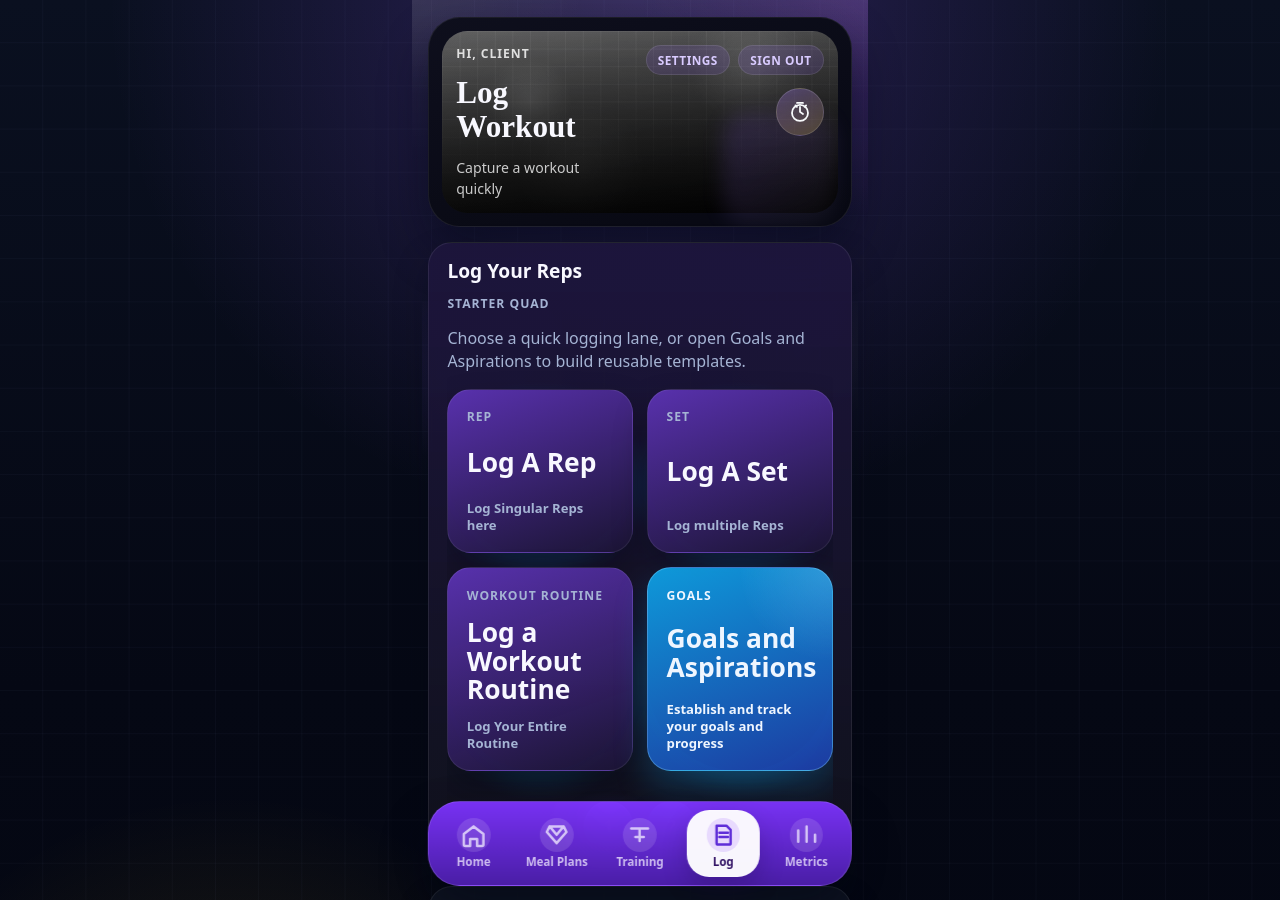
Scenario: AddLogPage mobile experience › replaces the old modal mode pills with Log and Recent History tabs
Click the button named "Open Log A Rep form" at x=540, y=471, box [447,389,633,553]
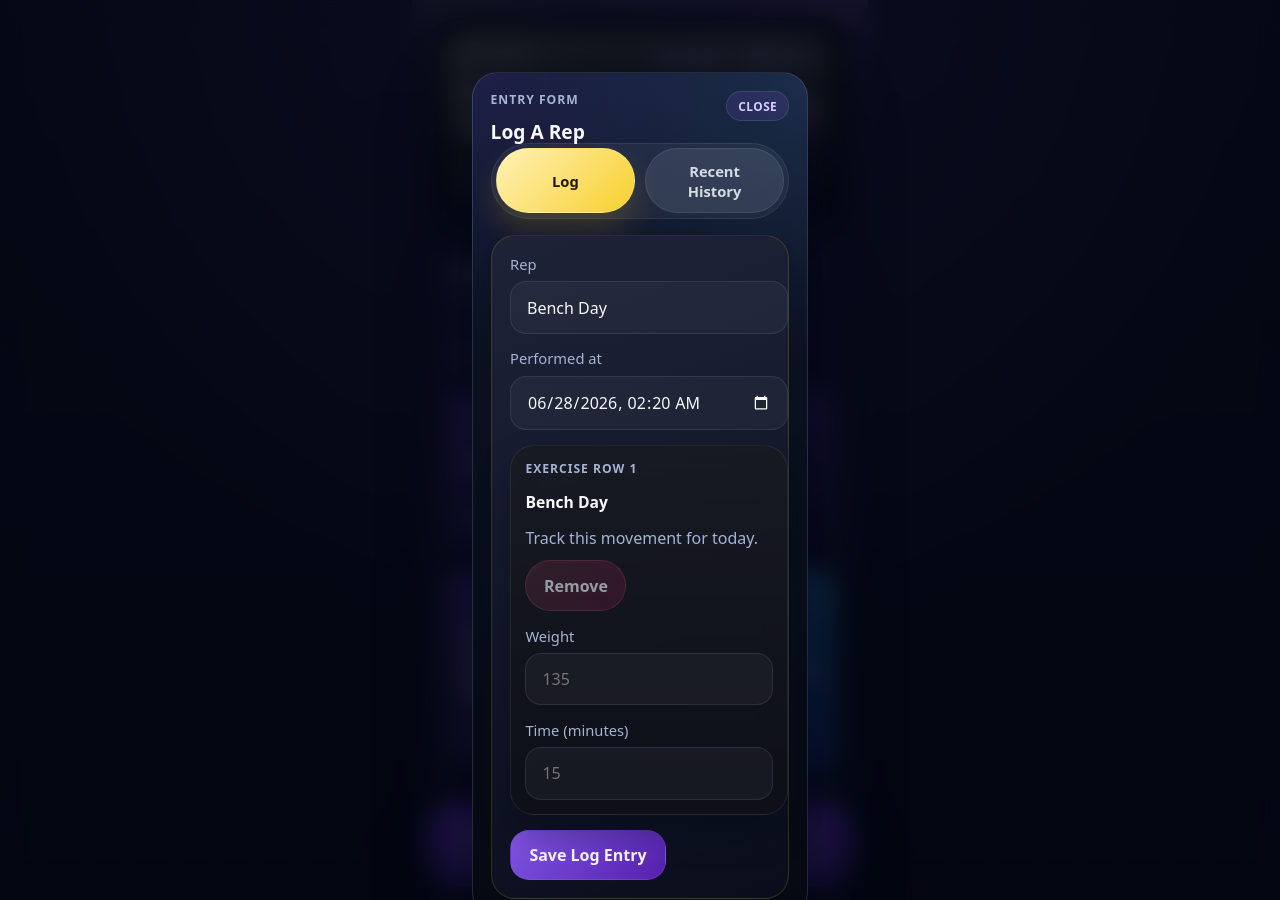
Expected: the tab "Log" is shown, [496,148,635,213]
Expected: the tab "Recent History" is shown
Click the tab named "Show recent history" at x=715, y=181, box [645,148,784,213]
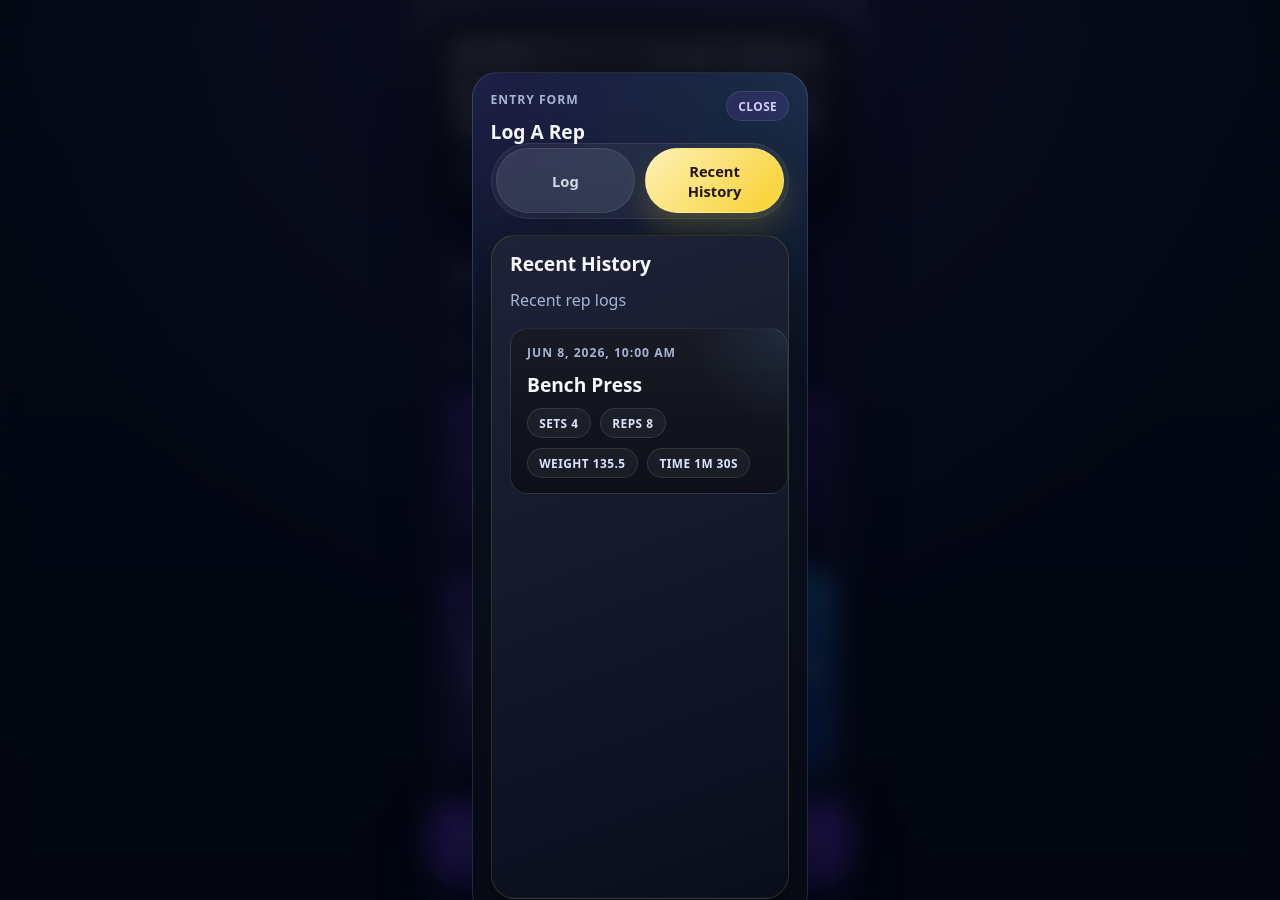
Expected: the heading "Recent History" is shown, [510,250,651,277]
Expected: the button "Save Log Entry" is gone
Click the tab named "Show log form" at x=565, y=181, box [496,148,635,213]
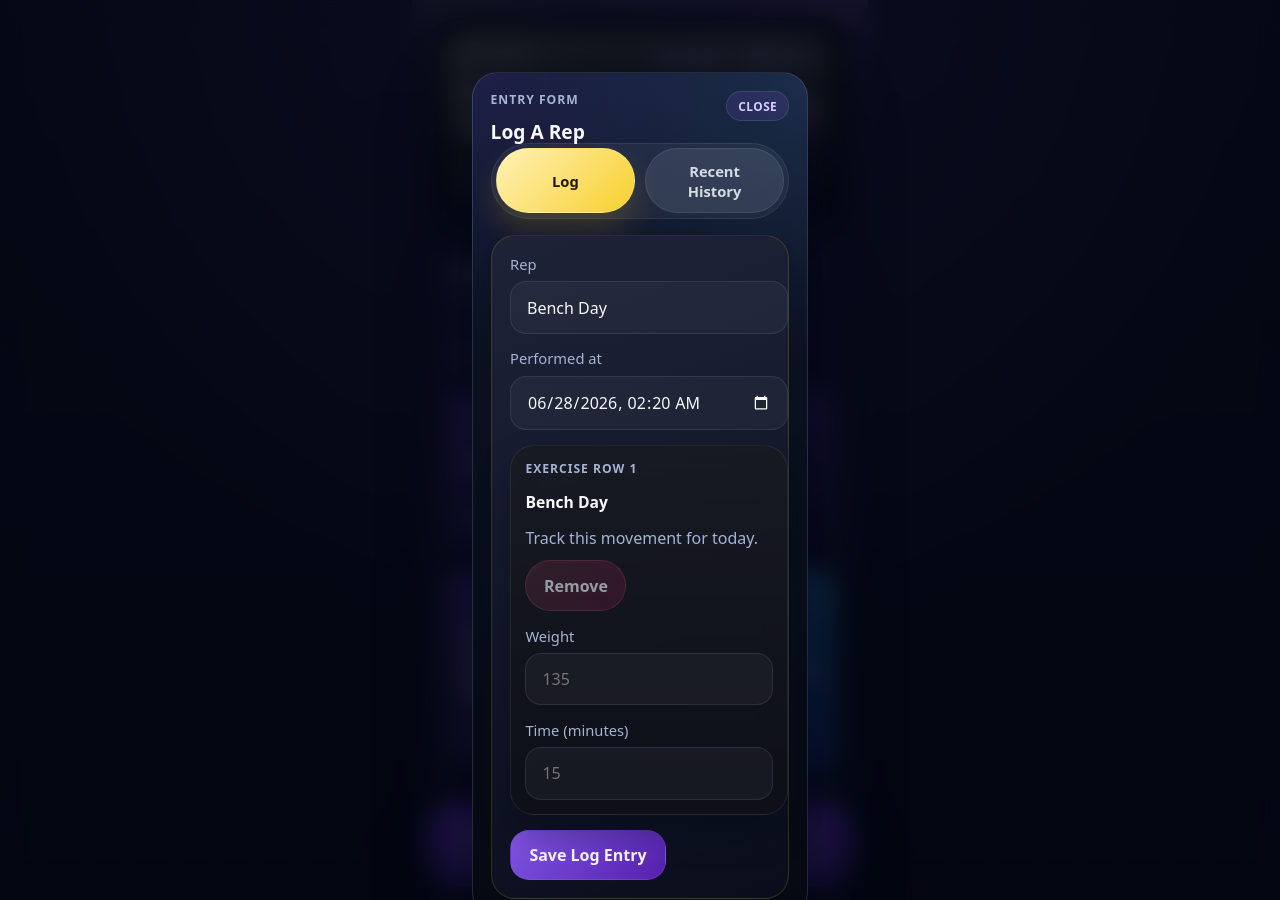
Expected: the field labelled "Rep" is shown, [510,281,788,334]
Expected: the button "Save Log Entry" is shown, [510,830,666,880]
